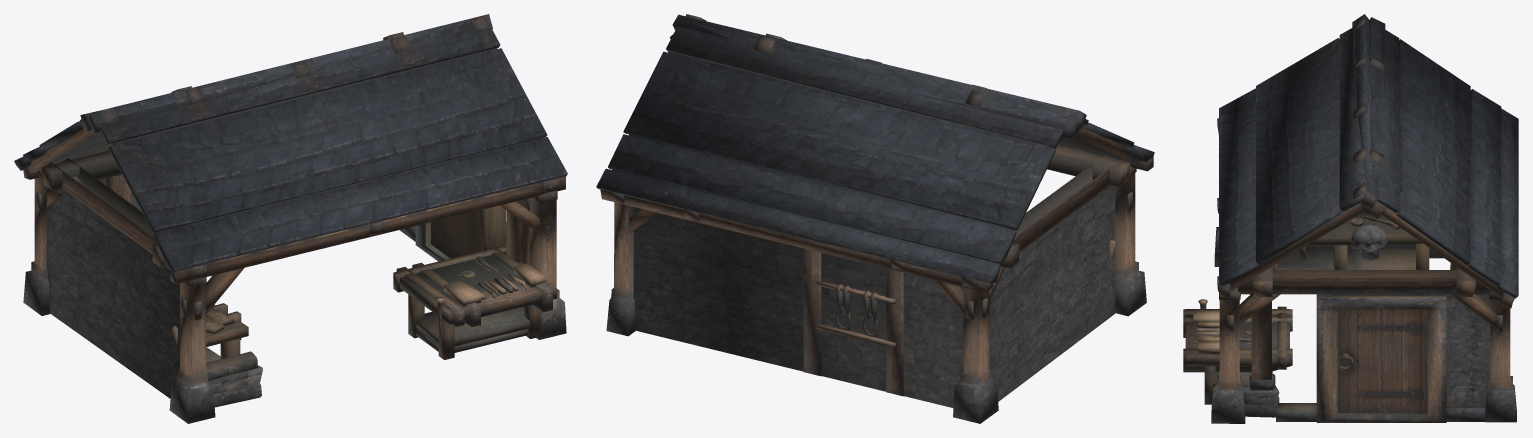
Rendered from workshop.glb.
3 renders of one model, left to right at view 1: azimuth 30°, elevation 25°; view 2: azimuth 150°, elevation 25°; view 3: azimuth 270°, elevation 25°, orthographic. The views are drawn at different scales.
Visible parts, largest first — view 1: tripo_node_d21413a1-239c-4536-8b6f-6c9ae8dac040; view 2: tripo_node_d21413a1-239c-4536-8b6f-6c9ae8dac040; view 3: tripo_node_d21413a1-239c-4536-8b6f-6c9ae8dac040.
Boxes of the visible parts, <box> form: tripo_node_d21413a1-239c-4536-8b6f-6c9ae8dac040: <box>14,14,567,423</box>; tripo_node_d21413a1-239c-4536-8b6f-6c9ae8dac040: <box>596,14,1154,423</box>; tripo_node_d21413a1-239c-4536-8b6f-6c9ae8dac040: <box>1183,14,1518,423</box>.
Size of the model in its own units: 8 by 4.9 by 6.34.
1 material, 1 textured.
